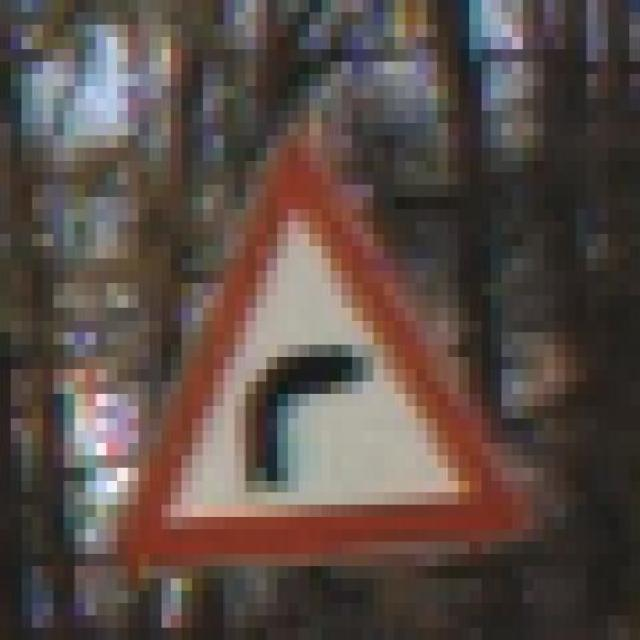Dangerous Rright Curve Ahead: (53, 136, 533, 566)
